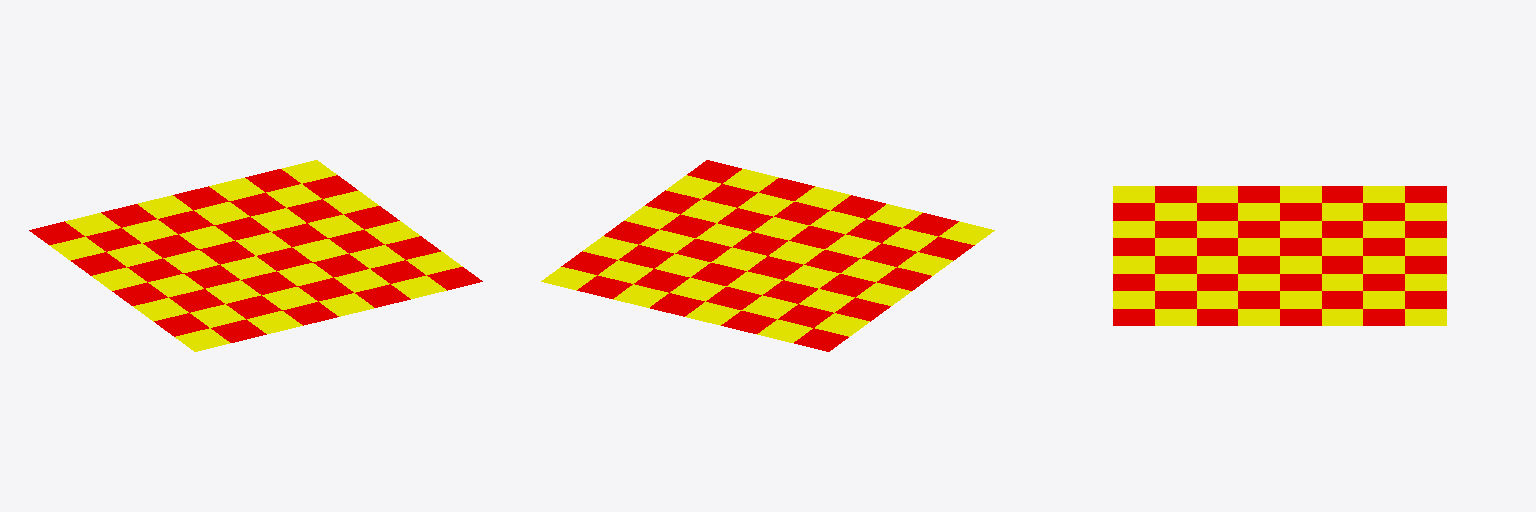
The picture shows the model from 3 angles: view 1: azimuth 30°, elevation 25°; view 2: azimuth 150°, elevation 25°; view 3: azimuth 270°, elevation 25°; orthographic projection.
Parts seen in each view (by area): view 1: Plane; view 2: Plane; view 3: Plane.
Part boxes in pixels (left/top/right/bottom): Plane: left=29, top=160, right=482, bottom=351; Plane: left=541, top=160, right=994, bottom=351; Plane: left=1113, top=186, right=1446, bottom=325.
Size of the model in its own units: 1 by 0 by 1.
1 materials, 1 textured.